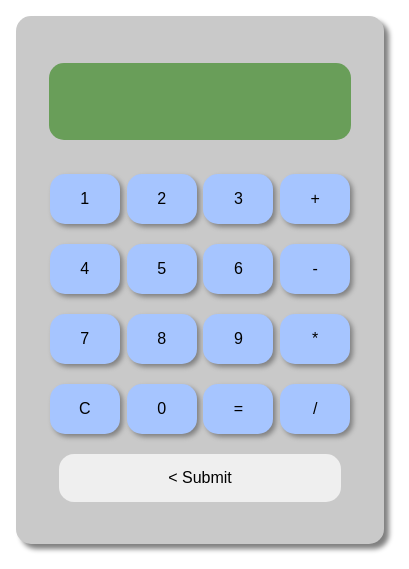
Test: Calculator Tests › verify subtraction works, 1 - 1 = 0
Click the button "1" at (85, 199), box left=50, top=174, right=120, bottom=224
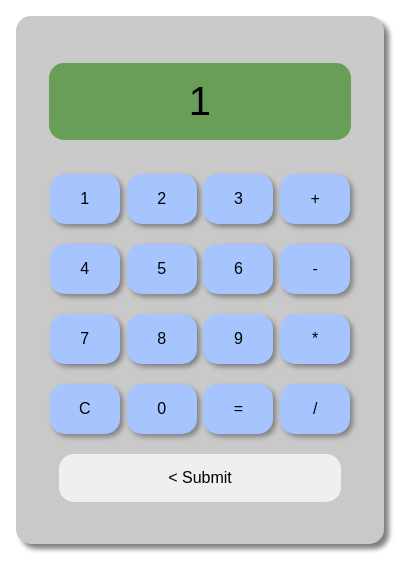
Click the button "-" at (315, 269), box left=280, top=244, right=350, bottom=294
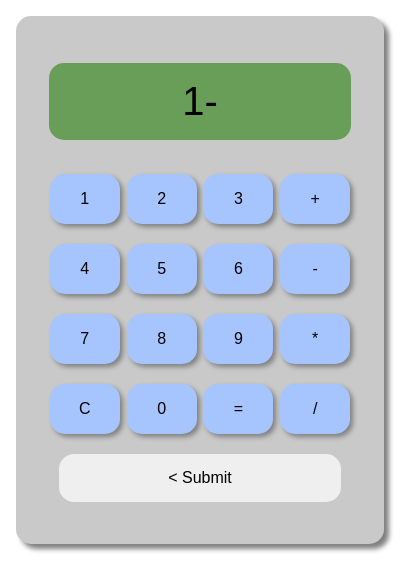
Click the button "1" at (85, 199), box left=50, top=174, right=120, bottom=224
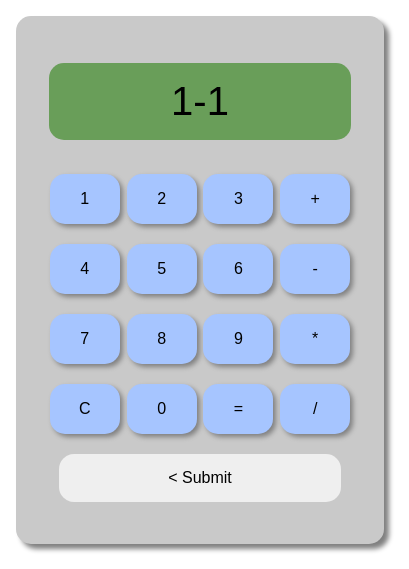
Click the button "=" at (238, 409), box left=203, top=384, right=273, bottom=434
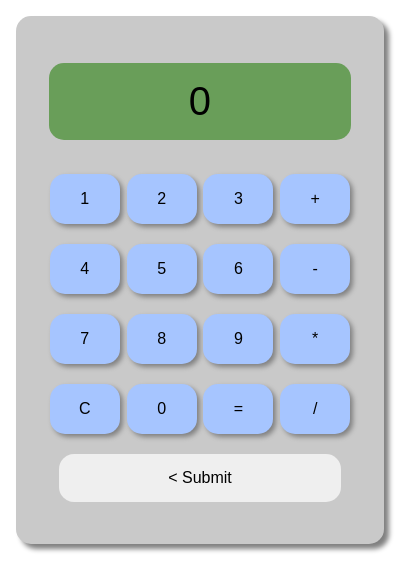
Expected: the field with test id "calcView" holds "0", left=49, top=63, right=351, bottom=140
